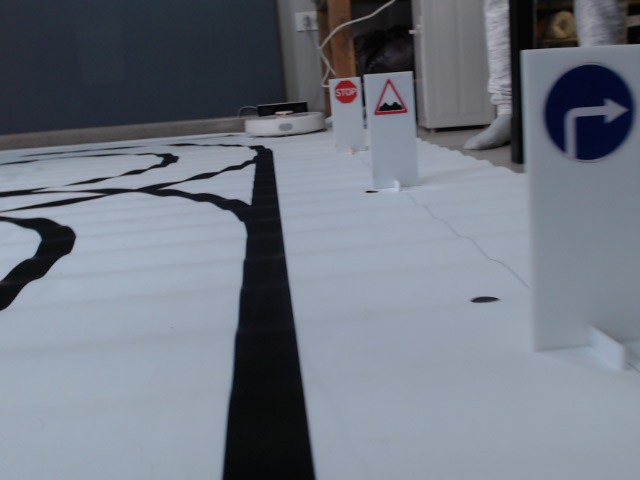Nerov: (372, 79, 409, 114)
Right: (540, 62, 635, 162)
